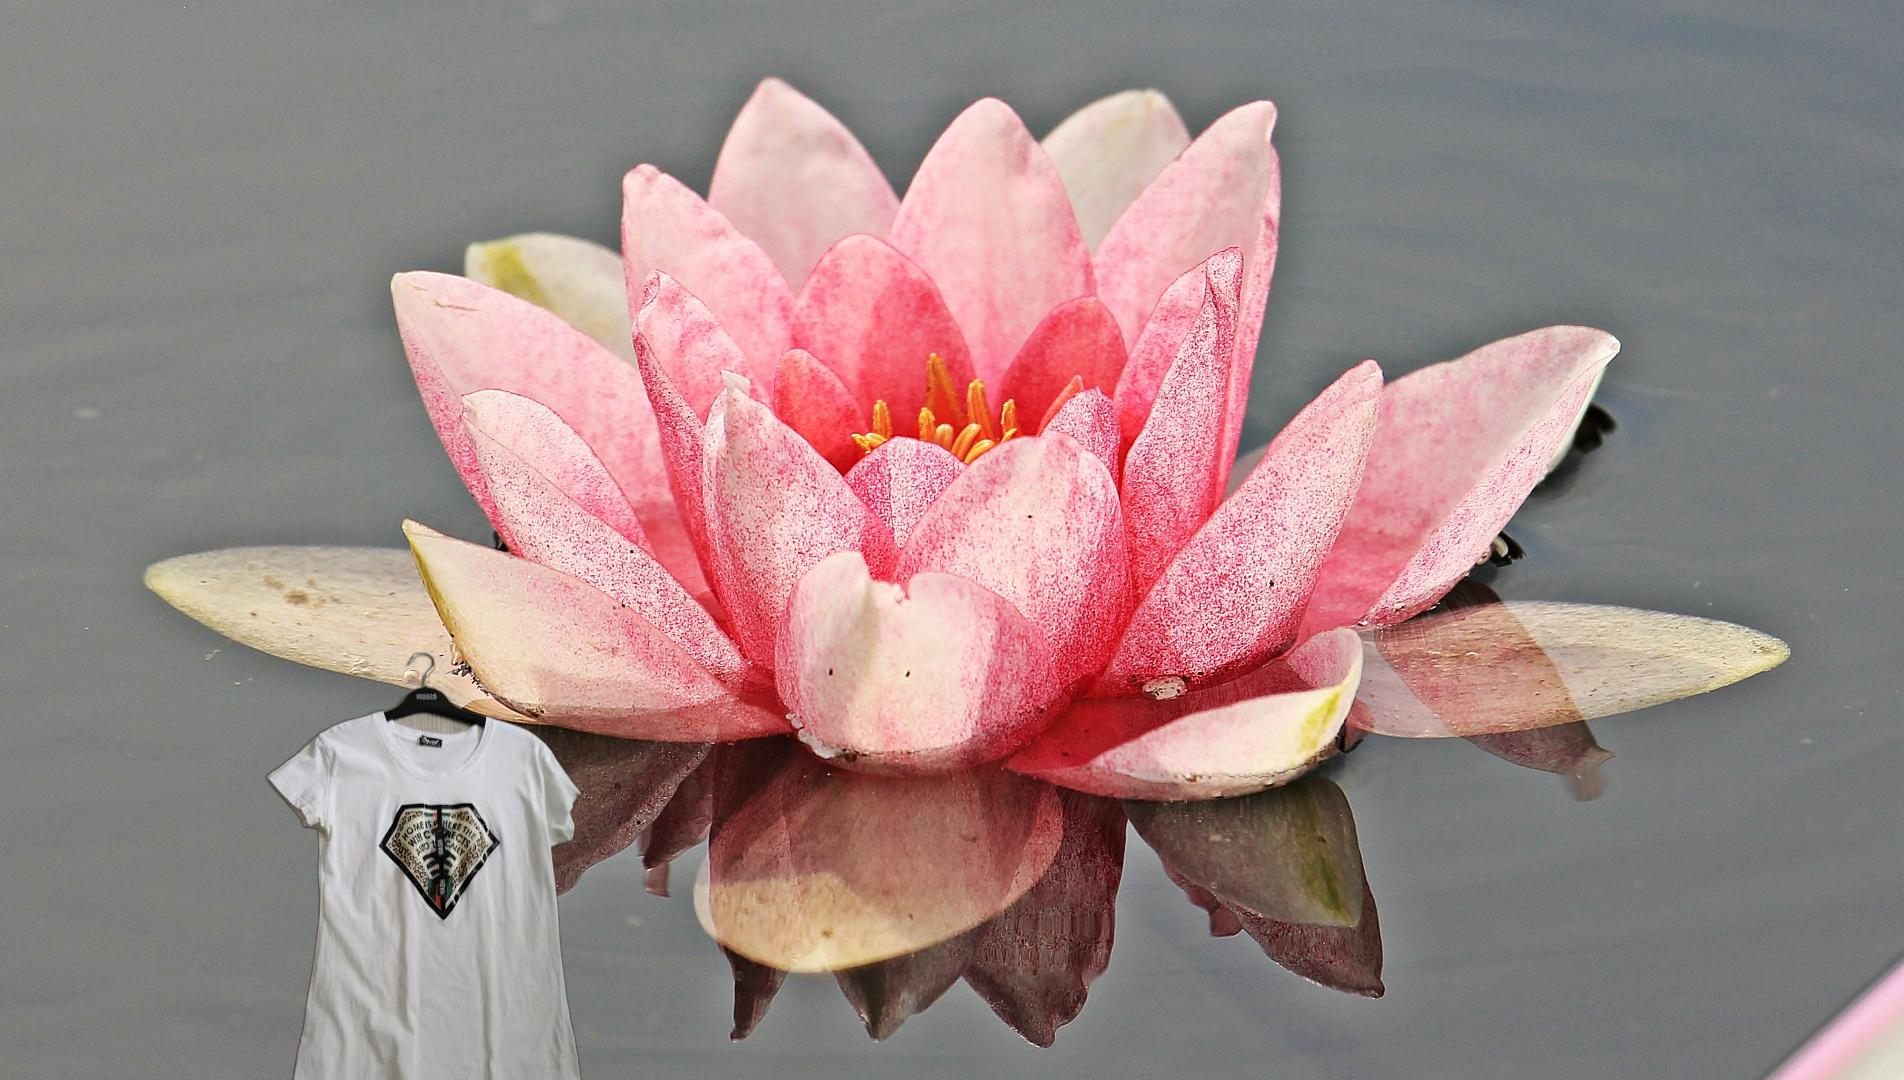clothes: (262, 649, 590, 1080)
penholder: (905, 843, 1904, 1080)
